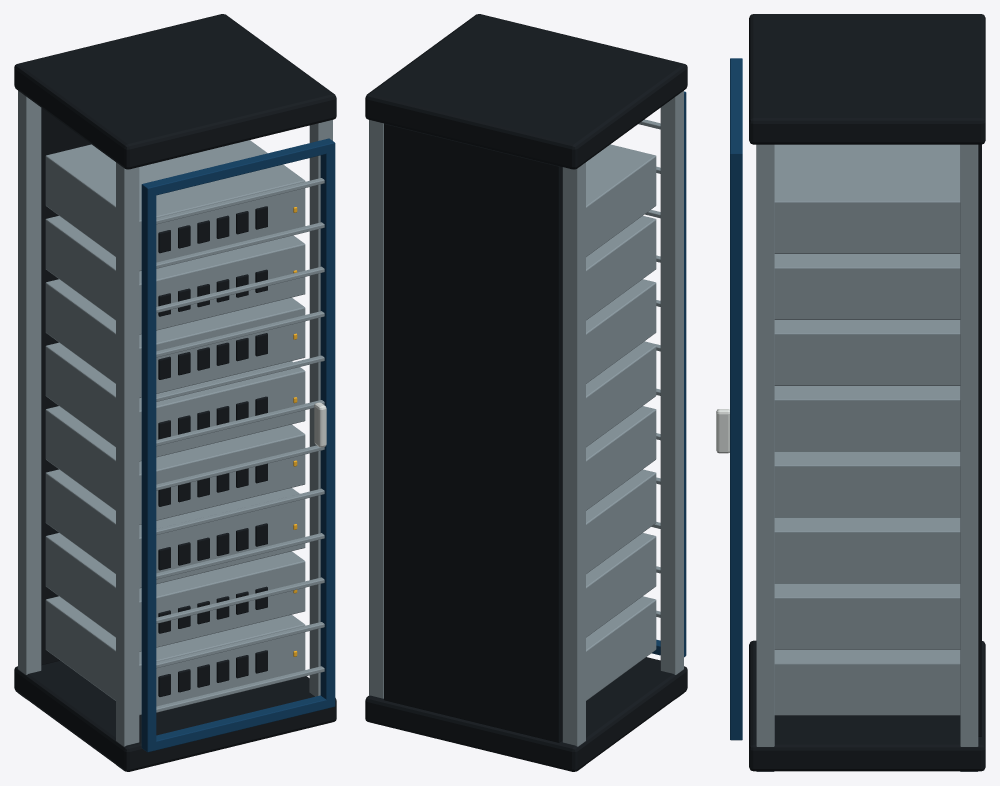
The model's file is edited.glb.
3 views of the same model, side by side, from view 1: azimuth 30°, elevation 25°; view 2: azimuth 150°, elevation 25°; view 3: azimuth 270°, elevation 25° (orthographic). The views are drawn at different scales.
Visible parts, largest first — view 1: FRAME_Plate.001, SERVER_Unit.007, FRAME_Post, FRAME_Post.001, SERVER_Unit.001, SERVER_Unit.005, SERVER_Unit.003, SERVER_Unit.006, FRAME_Plate, SERVER_Unit, SERVER_Unit.004, SERVER_Unit.002 (+19 smaller); view 2: BODY_Back, FRAME_Plate.001, FRAME_Post.001, FRAME_Post, FRAME_Plate, FRAME_Post.003, SERVER_Unit.007, SERVER_Unit.002, SERVER_Unit.004, SERVER_Unit, SERVER_Unit.003, SERVER_Unit.005 (+3 smaller); view 3: FRAME_Plate.001, SERVER_Unit.007, FRAME_Plate, SERVER_Unit, SERVER_Unit.001, SERVER_Unit.002, SERVER_Unit.003, SERVER_Unit.004, SERVER_Unit.005, SERVER_Unit.006, FRAME_Post.002, FRAME_Post.003 (+4 smaller).
Part boxes in pixels (left/top/right/bottom): FRAME_Plate.001: left=14, top=14, right=336, bottom=169; SERVER_Unit.007: left=45, top=140, right=305, bottom=271; FRAME_Post: left=116, top=162, right=139, bottom=770; FRAME_Post.001: left=18, top=91, right=41, bottom=698; SERVER_Unit.001: left=45, top=533, right=305, bottom=651; SERVER_Unit.005: left=45, top=279, right=305, bottom=397; SERVER_Unit.003: left=45, top=406, right=305, bottom=524; SERVER_Unit.006: left=45, top=216, right=305, bottom=334; FRAME_Plate: left=14, top=660, right=336, bottom=771; SERVER_Unit: left=45, top=596, right=305, bottom=715; SERVER_Unit.004: left=45, top=342, right=305, bottom=461; SERVER_Unit.002: left=45, top=469, right=305, bottom=588; BODY_Back: left=384, top=123, right=562, bottom=742; FRAME_Plate.001: left=365, top=14, right=687, bottom=169; FRAME_Post.001: left=562, top=162, right=585, bottom=770; FRAME_Post: left=660, top=91, right=683, bottom=698; FRAME_Plate: left=365, top=657, right=687, bottom=771; FRAME_Post.003: left=369, top=120, right=383, bottom=698; SERVER_Unit.007: left=586, top=144, right=656, bottom=256; SERVER_Unit.002: left=586, top=469, right=656, bottom=573; SERVER_Unit.004: left=586, top=342, right=656, bottom=447; SERVER_Unit: left=586, top=596, right=656, bottom=700; SERVER_Unit.003: left=586, top=406, right=656, bottom=510; SERVER_Unit.005: left=586, top=279, right=656, bottom=383; FRAME_Plate.001: left=749, top=14, right=985, bottom=144; SERVER_Unit.007: left=774, top=144, right=960, bottom=253; FRAME_Plate: left=749, top=640, right=985, bottom=771; SERVER_Unit: left=774, top=649, right=960, bottom=715; SERVER_Unit.001: left=774, top=583, right=960, bottom=649; SERVER_Unit.002: left=774, top=517, right=960, bottom=583; SERVER_Unit.003: left=774, top=451, right=960, bottom=517; SERVER_Unit.004: left=774, top=386, right=960, bottom=451; SERVER_Unit.005: left=774, top=320, right=960, bottom=385; SERVER_Unit.006: left=774, top=254, right=960, bottom=319; FRAME_Post.002: left=756, top=144, right=774, bottom=771; FRAME_Post.003: left=960, top=144, right=978, bottom=771.
Size of the model in its own units: 0.7 by 1.98 by 0.74.
